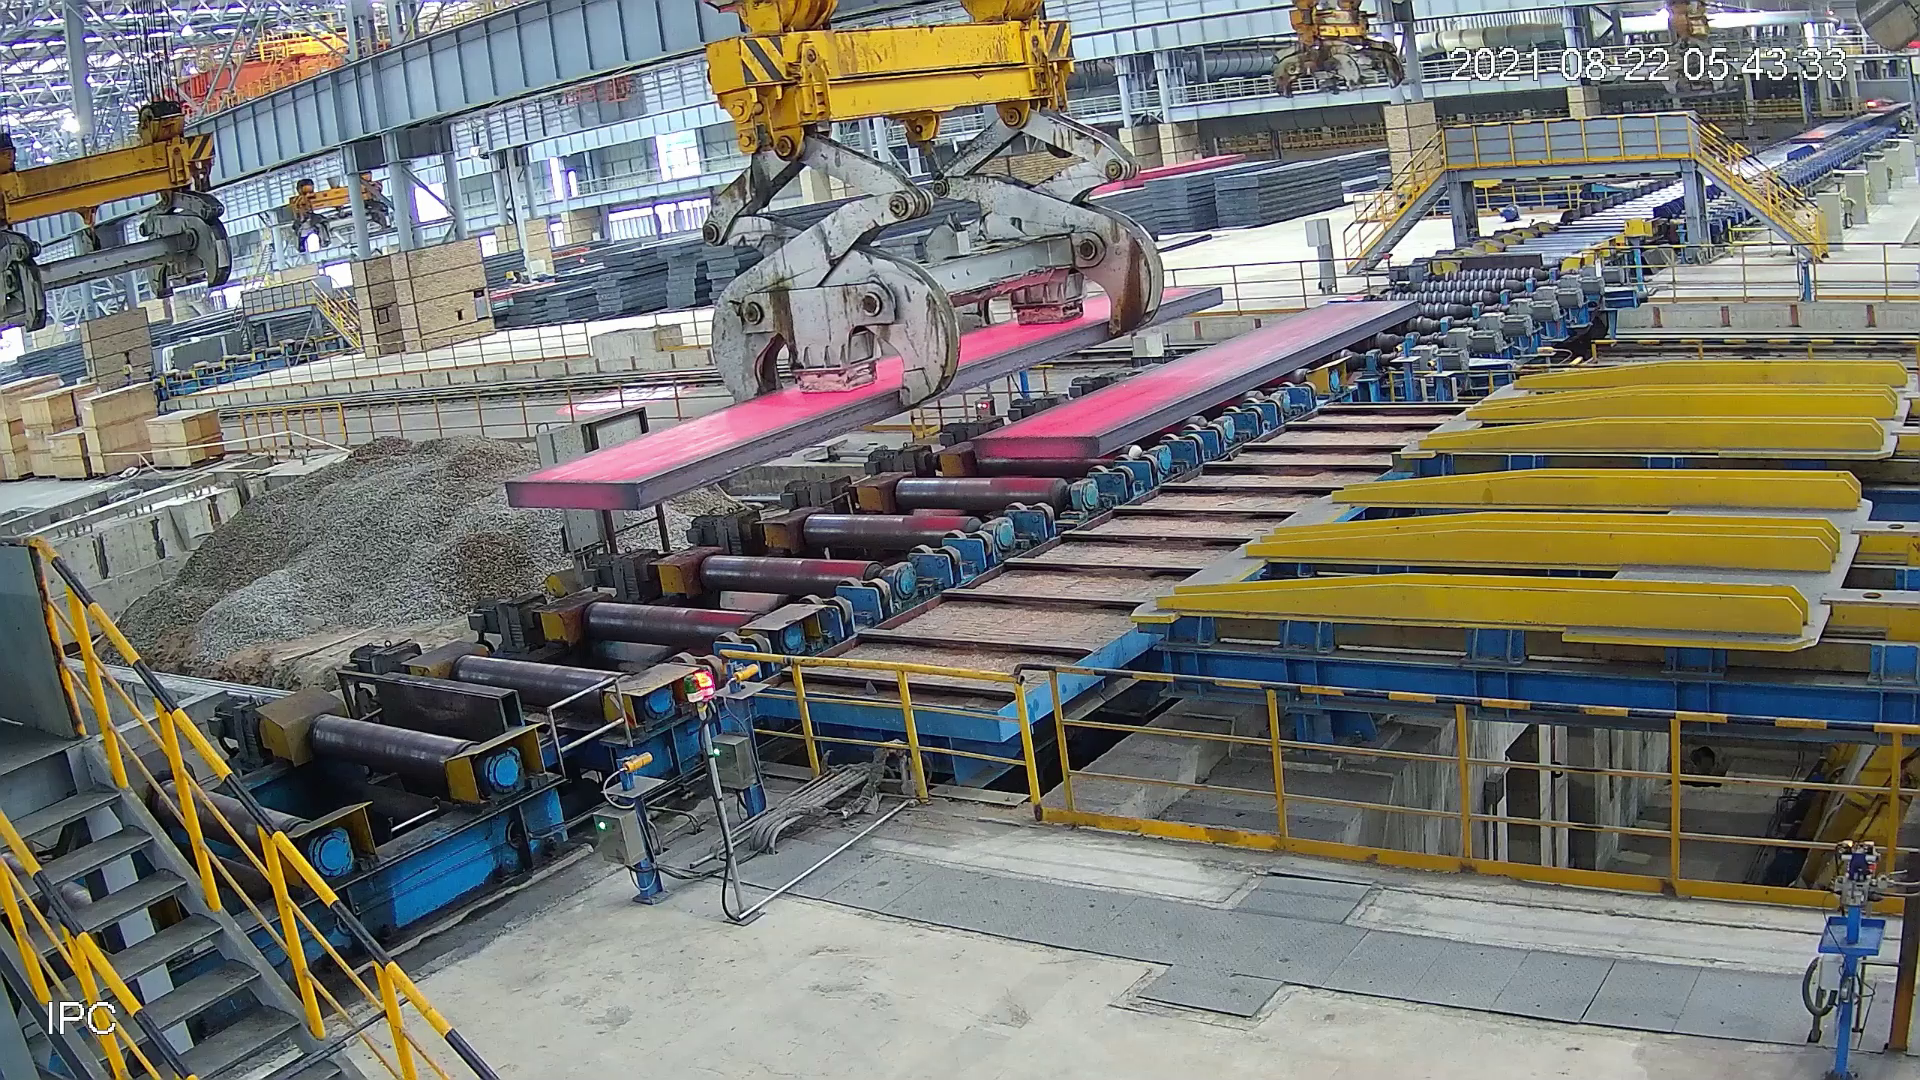crane: (1267, 1, 1415, 98)
craneandslab: (502, 1, 1224, 520)
slab: (967, 290, 1439, 469)
